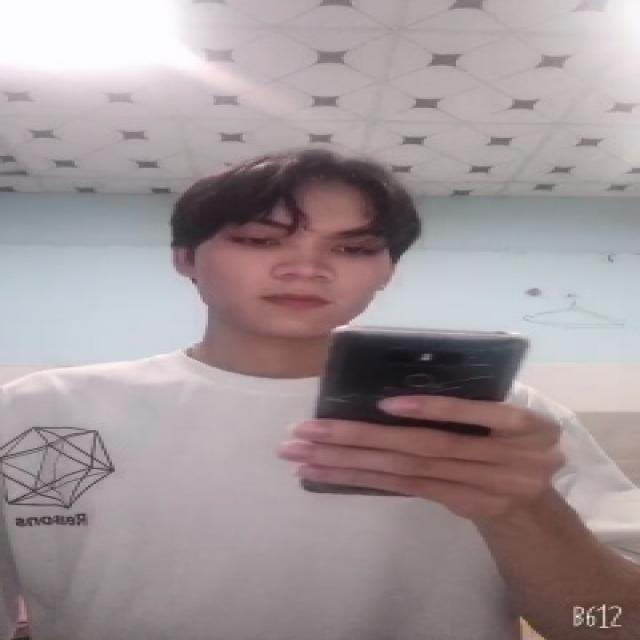Phone: (309, 323, 532, 423)
